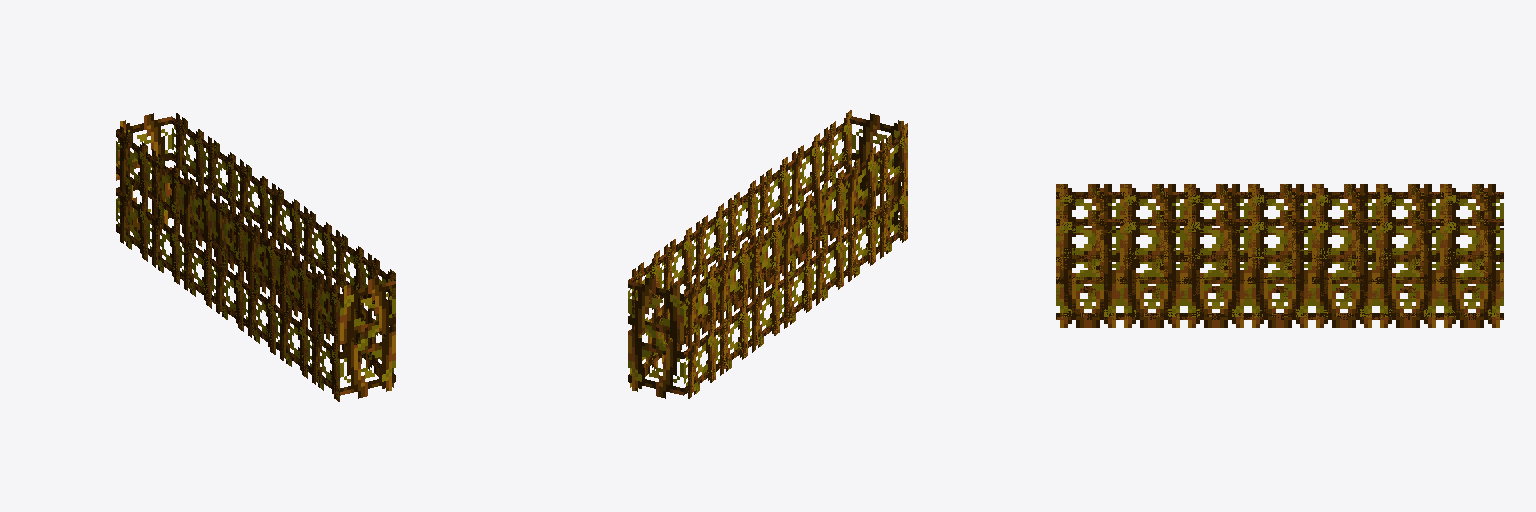
The picture shows the model from 3 angles: view 1: azimuth 30°, elevation 25°; view 2: azimuth 150°, elevation 25°; view 3: azimuth 270°, elevation 25°; orthographic projection.
Visible parts, largest first — view 1: Default; view 2: Default; view 3: Default.
Part boxes in pixels (left/top/right/bottom): Default: left=116, top=113, right=395, bottom=401; Default: left=628, top=110, right=907, bottom=398; Default: left=1056, top=184, right=1503, bottom=327.
Bounding box in the file's own units: 1 × 2 × 7.
1 materials, 1 textured.